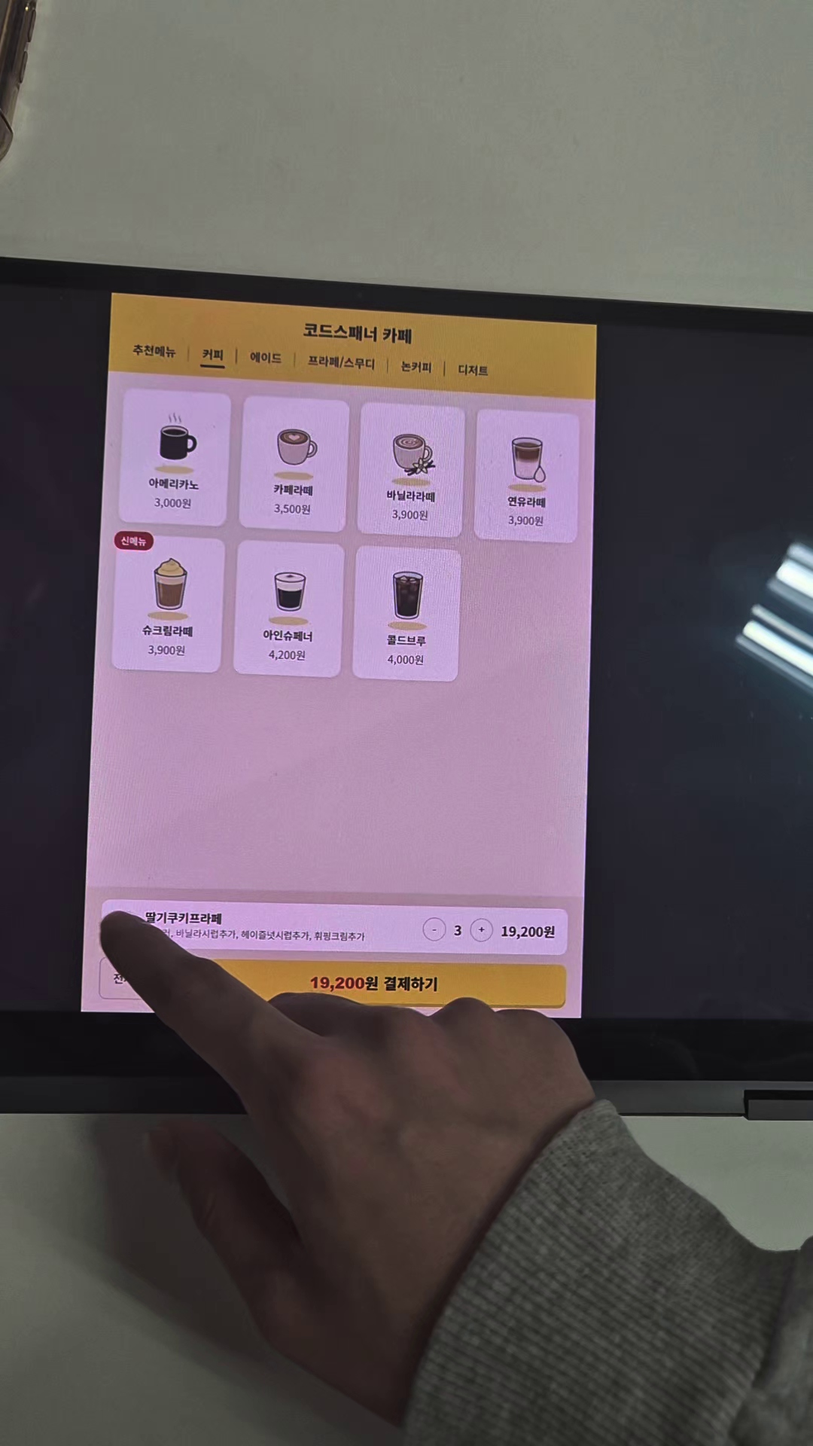action_button: (183, 959, 565, 1007), (99, 957, 168, 999)
cart_item: (101, 899, 568, 955)
category_tab: (306, 353, 376, 371), (131, 342, 178, 360), (249, 349, 283, 365), (399, 359, 433, 375), (457, 362, 489, 378), (200, 347, 225, 362)
menu_back: (112, 531, 225, 673), (119, 389, 231, 526), (239, 395, 350, 532), (233, 540, 344, 677), (356, 402, 465, 538), (352, 546, 461, 681), (474, 409, 579, 543)
menu_name: (140, 623, 195, 639), (261, 627, 315, 643), (148, 476, 200, 492), (385, 488, 436, 504), (385, 631, 427, 648), (272, 482, 315, 498), (506, 495, 547, 509)
menu_price: (152, 495, 193, 511), (145, 643, 187, 658), (272, 501, 311, 516), (506, 513, 545, 528), (267, 648, 307, 662), (391, 508, 429, 522), (387, 653, 426, 666)
